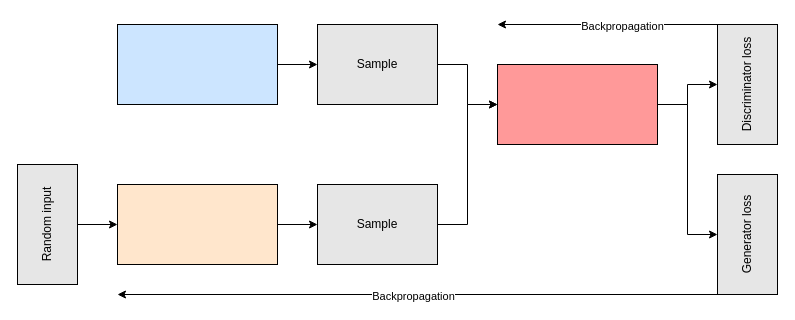
Image size: 795x320. Some labels were removed from this diagram. The box of each missing label's shape, as (x1, y1, x2, y2) in pixels:
Discriminator: (496, 64, 658, 144)
Generator: (116, 184, 278, 264)
Real images: (116, 24, 278, 104)
